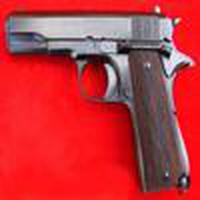gun: (3, 16, 192, 193)
